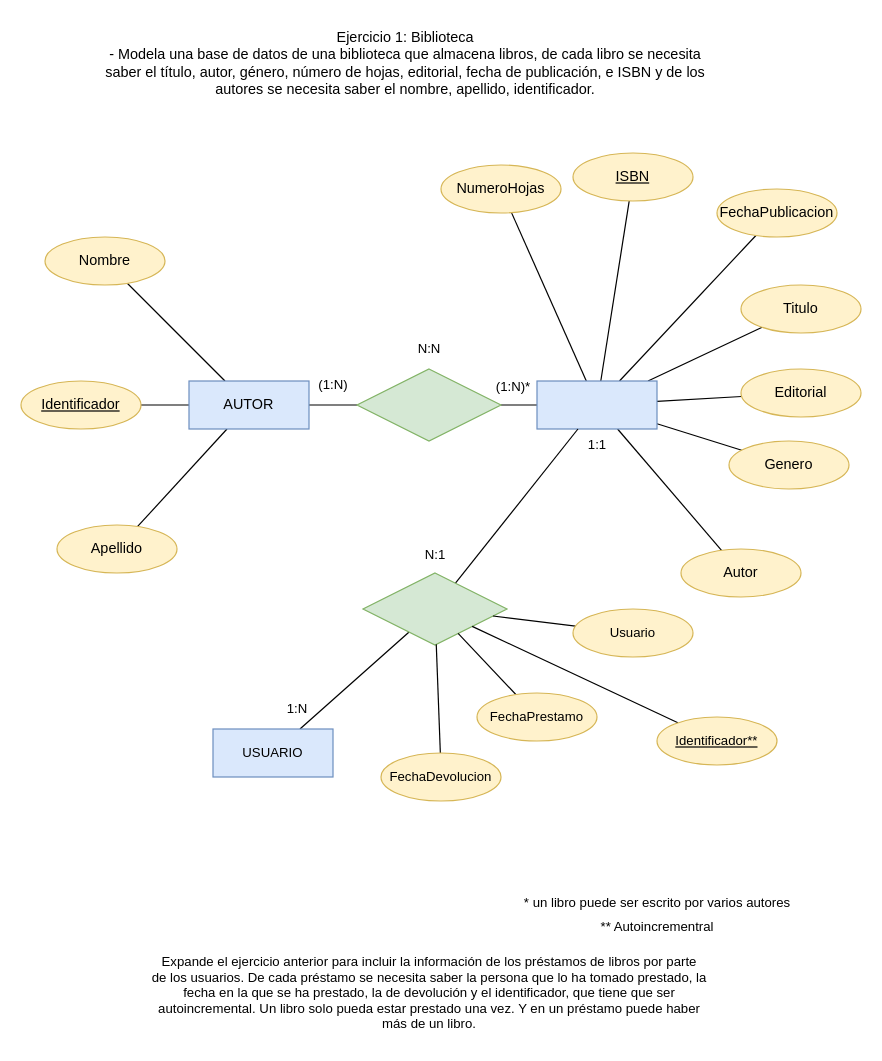
This 882x1061 diagram has some shape labels left out. The centre of each missing label's shape, as x and y in pixels:
Escribir: pixel 428 404
LIBRO: pixel 596 404
TomarPrestado: pixel 434 608
